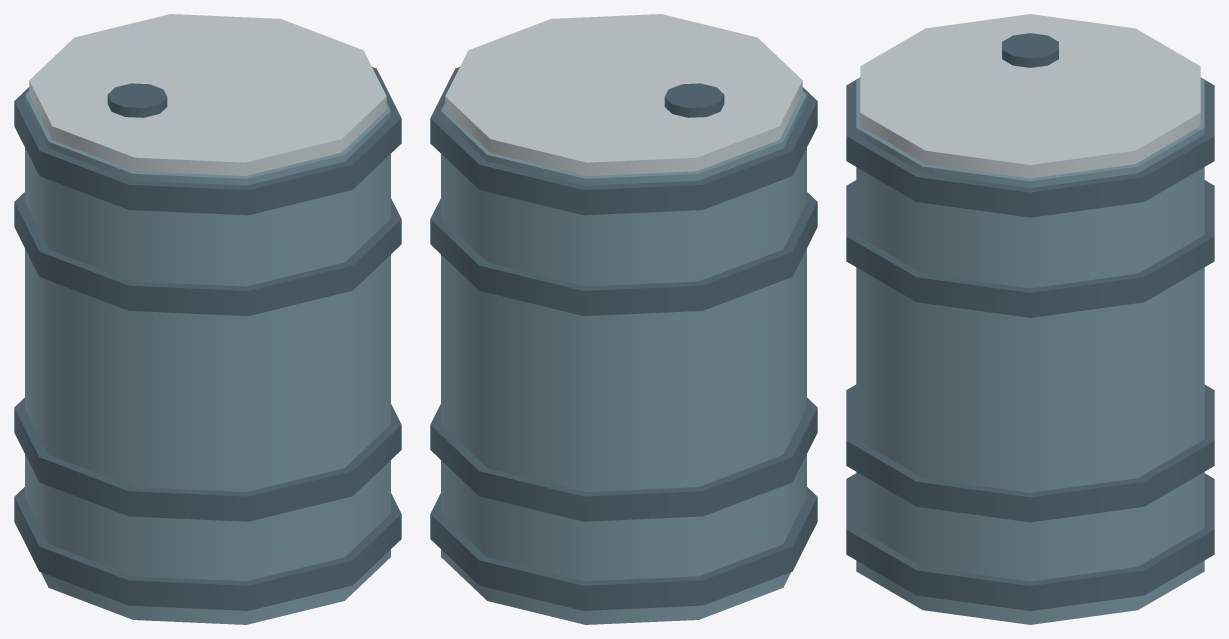
The model's file is cover-barrel-clean.glb.
3 renders of one model, left to right at view 1: azimuth 30°, elevation 25°; view 2: azimuth 150°, elevation 25°; view 3: azimuth 270°, elevation 25°, orthographic.
Parts seen in each view (by area): view 1: cover-barrel-kit-clean-metal, cover-barrel-kit-clean-dark, cover-barrel-kit-clean-light; view 2: cover-barrel-kit-clean-metal, cover-barrel-kit-clean-dark, cover-barrel-kit-clean-light; view 3: cover-barrel-kit-clean-metal, cover-barrel-kit-clean-dark, cover-barrel-kit-clean-light.
Boxes of the visible parts, x1,y1,x2,y2 form: cover-barrel-kit-clean-metal: (25, 91, 390, 624); cover-barrel-kit-clean-dark: (14, 67, 401, 610); cover-barrel-kit-clean-light: (29, 14, 386, 175); cover-barrel-kit-clean-metal: (441, 91, 806, 624); cover-barrel-kit-clean-dark: (430, 67, 817, 610); cover-barrel-kit-clean-light: (445, 14, 802, 175); cover-barrel-kit-clean-metal: (856, 78, 1204, 624); cover-barrel-kit-clean-dark: (846, 33, 1214, 610); cover-barrel-kit-clean-light: (860, 14, 1200, 178).
Size of the model in its own units: 0.91 by 1.21 by 0.8655.
